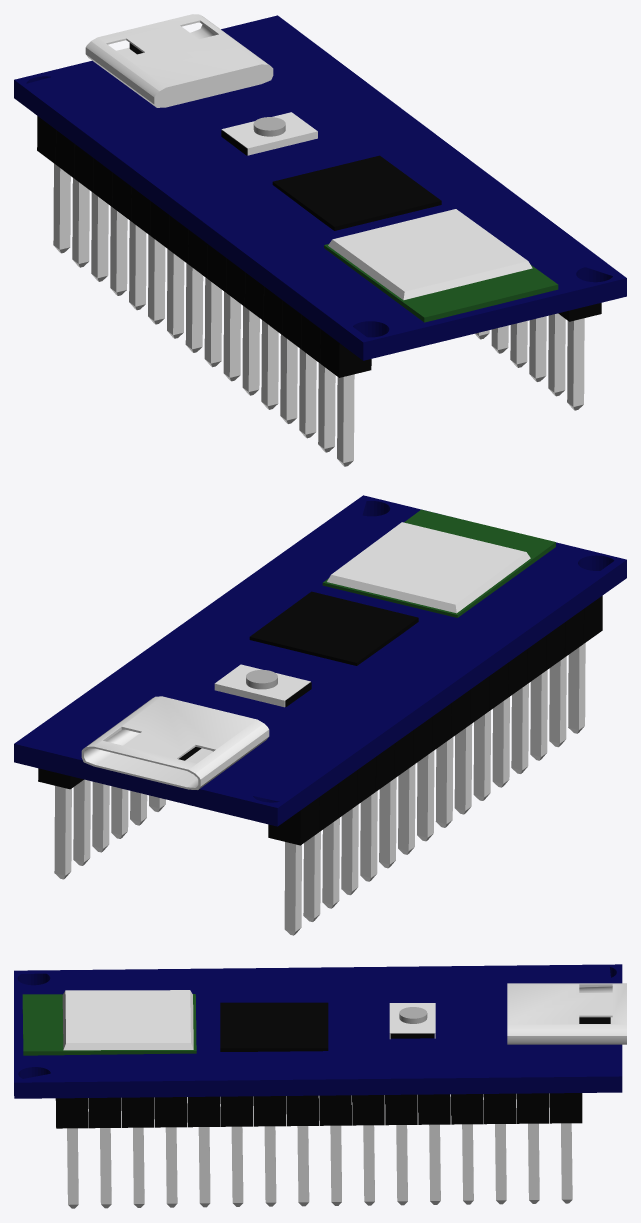
File: nanoIoT_v1.1.fbx
The picture shows the model from 3 angles, top to bottom: view 1: azimuth 30°, elevation 25°; view 2: azimuth 150°, elevation 25°; view 3: azimuth 270°, elevation 25°; orthographic projection. The views are drawn at different scales.
Parts seen in each view (by area): view 1: board, Plane, Plane.003, Plane.001, nano module, Plane.002, pin.032, pin, pin.026, pin.006, pin.004, pin.028 (+30 smaller); view 2: board, Plane, Plane.003, Plane.001, nano module, Plane.002, pin.062, pin.030, pin.022, pin.002, pin.004, pin.024 (+30 smaller); view 3: board, Plane.003, Plane, Plane.001, nano module, Plane.002, pin.039, pin.063, pin.037, pin.061, pin.033, pin.041 (+27 smaller).
Part boxes in pixels (x1=…): board: x1=14, y1=15, x2=626, y2=360; Plane: x1=85, y1=14, x2=273, y2=107; Plane.003: x1=328, y1=209, x2=532, y2=300; Plane.001: x1=272, y1=155, x2=441, y2=230; nano module: x1=324, y1=244, x2=558, y2=322; Plane.002: x1=221, y1=112, x2=317, y2=155; pin.032: x1=567, y1=318, x2=584, y2=410; pin: x1=337, y1=374, x2=354, y2=466; pin.026: x1=91, y1=192, x2=108, y2=281; pin.006: x1=280, y1=334, x2=297, y2=423; pin.004: x1=299, y1=348, x2=316, y2=438; pin.028: x1=72, y1=178, x2=89, y2=267; board: x1=14, y1=495, x2=626, y2=826; Plane: x1=81, y1=696, x2=269, y2=789; Plane.003: x1=327, y1=522, x2=530, y2=613; Plane.001: x1=249, y1=591, x2=418, y2=665; nano module: x1=322, y1=509, x2=555, y2=617; Plane.002: x1=214, y1=664, x2=310, y2=707; pin.062: x1=54, y1=785, x2=71, y2=879; pin.030: x1=284, y1=842, x2=301, y2=935; pin.022: x1=360, y1=791, x2=377, y2=881; pin.002: x1=549, y1=656, x2=566, y2=747; pin.004: x1=530, y1=670, x2=547, y2=760; pin.024: x1=341, y1=804, x2=358, y2=895; board: x1=14, y1=964, x2=622, y2=1098; Plane.003: x1=62, y1=990, x2=193, y2=1050; Plane: x1=507, y1=983, x2=626, y2=1044; Plane.001: x1=220, y1=1002, x2=328, y2=1051; nano module: x1=22, y1=994, x2=196, y2=1055; Plane.002: x1=389, y1=1003, x2=435, y2=1039; pin.039: x1=154, y1=1097, x2=187, y2=1127; pin.063: x1=549, y1=1093, x2=582, y2=1123; pin.037: x1=121, y1=1097, x2=154, y2=1127; pin.061: x1=516, y1=1093, x2=549, y2=1123; pin.033: x1=55, y1=1098, x2=88, y2=1128; pin.041: x1=187, y1=1096, x2=220, y2=1127.
Bounding box in the file's own units: 238 × 154 × 549.
